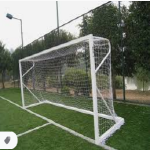goals: (18, 33, 125, 146)
